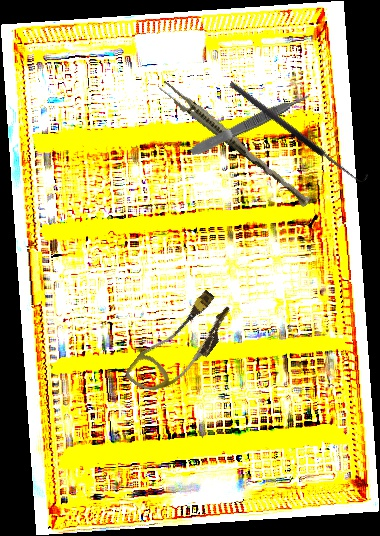Cannula: (123, 281, 239, 409)
Hook Surgical: (228, 74, 370, 187)
Tissue Forceps: (155, 78, 315, 209), (188, 91, 312, 158)
